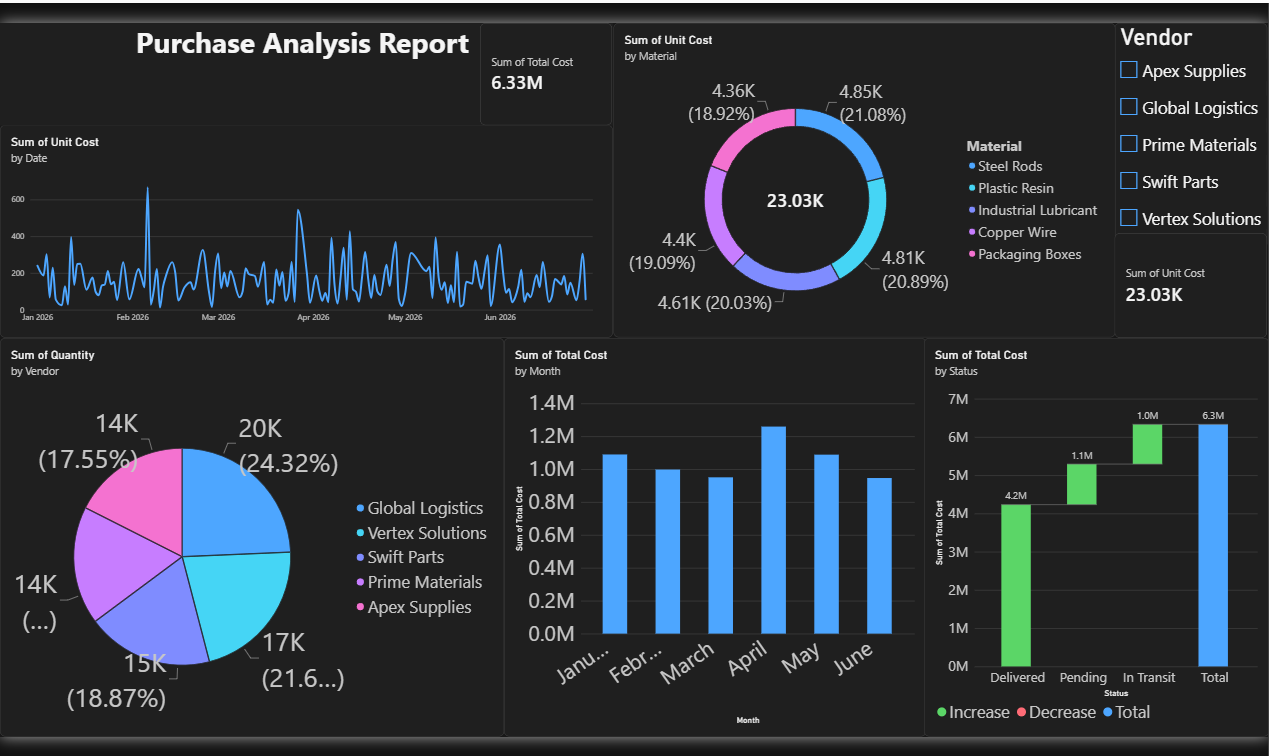

The dashboard page shown, as its layout file describes it:
{"tool":"powerbi","page":{"name":"Page 1","canvas":[1920,1080],"ordinal":0},"visuals":[{"type":"lineStackedColumnComboChart","fields":{"Category":["Purchase Data.Date.Variation.Date Hierarchy.Month"],"Y":["Sum(Purchase Data.Total Cost)"]},"box":[763.5,477.2,639.4,603.6],"z":0},{"type":"pieChart","fields":{"Category":["Purchase Data.Vendor"],"Y":["Sum(Purchase Data.Quantity)"]},"box":[0,477.2,763.5,603.6],"z":1000},{"type":"lineChart","fields":{"Category":["Purchase Data.Date"],"Y":["Sum(Purchase Data.Unit Cost)"]},"box":[0,155.1,928.1,322.1],"z":2000},{"type":"slicer","fields":{"Values":["Purchase Data.Vendor"]},"box":[1686.8,0,231.4,341.2],"z":3000},{"type":"donutChart","fields":{"Category":["Purchase Data.Material"],"Y":["Sum(Purchase Data.Unit Cost)"]},"box":[928.1,0,759.7,476.2],"z":4000},{"type":"waterfallChart","fields":{"Category":["Purchase Data.Status"],"Y":["Sum(Purchase Data.Total Cost)"]},"box":[1398.1,477.2,522.5,603.6],"z":5000},{"type":"textbox","box":[0,0,928.1,155.1],"z":6000},{"type":"cardVisual","fields":{"Data":["Sum(Purchase Data.Unit Cost)"]},"box":[1686.8,317.3,231.4,159.9],"z":7000},{"type":"cardVisual","fields":{"Data":["Sum(Purchase Data.Total Cost)"]},"box":[727.7,0,200.4,155.1],"z":8000}]}

Visuals, with their boxes on the page's 1920x1080 design canvas (x1, y1, x2, y2). These are canvas units, not pixel positions in the 1269x756 screenshot, which may show the page scaled, cropped or inside an application window:
lineStackedColumnComboChart - Purchase Data.Date.Variation.Date Hierarchy.Month x Sum(Purchase Data.Total Cost): BBox(764, 477, 1403, 1081)
pieChart - Purchase Data.Vendor x Sum(Purchase Data.Quantity): BBox(0, 477, 764, 1081)
lineChart - Purchase Data.Date x Sum(Purchase Data.Unit Cost): BBox(0, 155, 928, 477)
slicer - Purchase Data.Vendor: BBox(1687, 0, 1918, 341)
donutChart - Purchase Data.Material x Sum(Purchase Data.Unit Cost): BBox(928, 0, 1688, 476)
waterfallChart - Purchase Data.Status x Sum(Purchase Data.Total Cost): BBox(1398, 477, 1921, 1081)
textbox: BBox(0, 0, 928, 155)
cardVisual - Sum(Purchase Data.Unit Cost): BBox(1687, 317, 1918, 477)
cardVisual - Sum(Purchase Data.Total Cost): BBox(728, 0, 928, 155)
